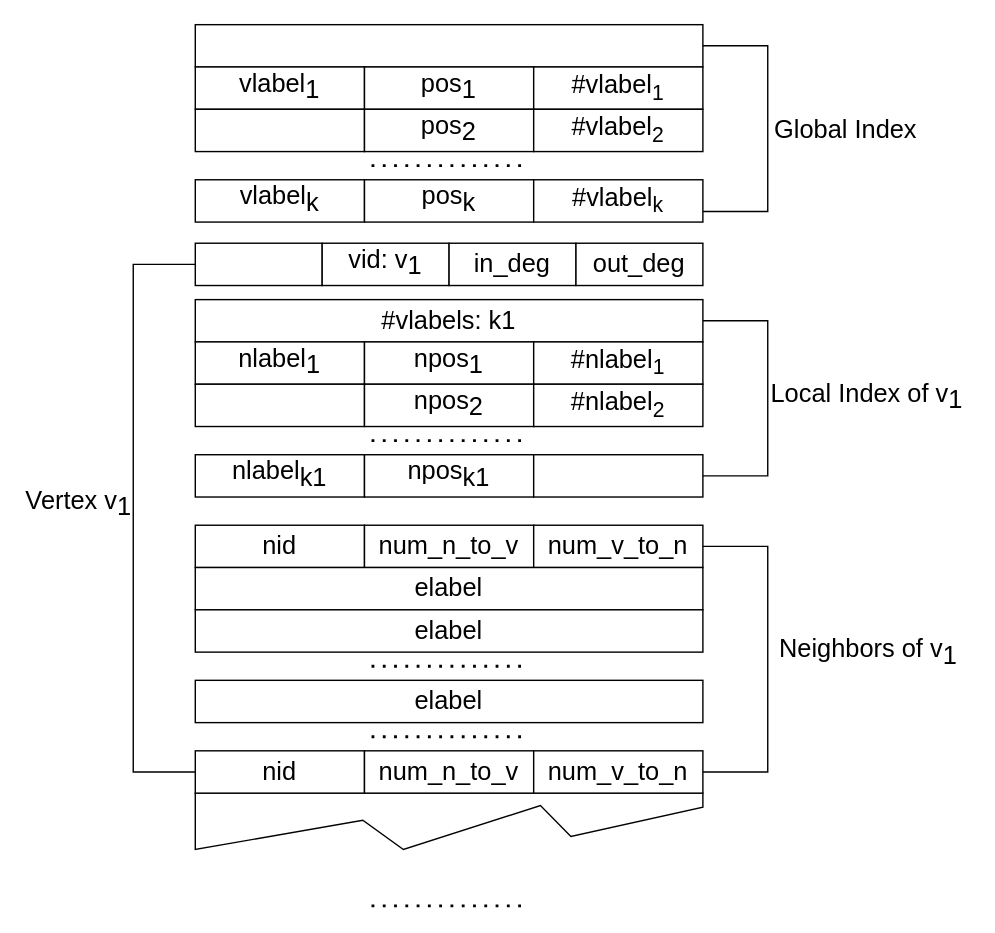
This 995x933 diagram has some shape labels left out. Each missing label, with the centre of its shape:
#nlabel k1: the point at 617,475
#vlabels: k: the point at 448,45
nlabel 2: the point at 279,405
size: the point at 258,264
vlabel 2: the point at 279,130
